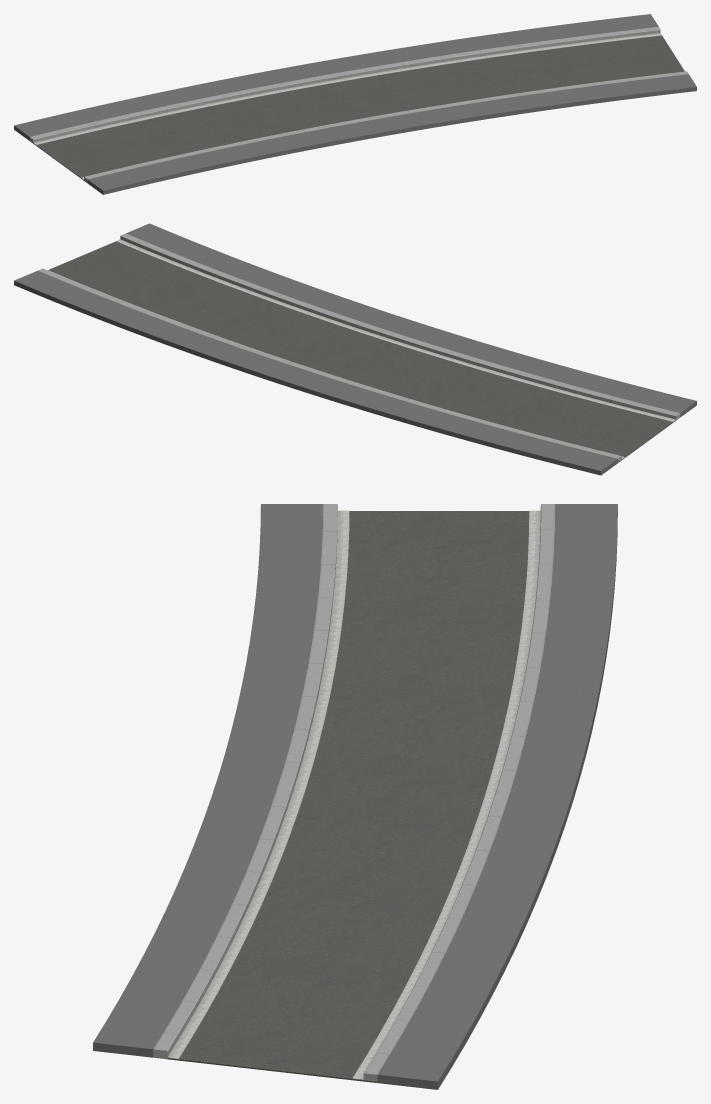
Rendered from routeCourbe1VoieAvecTrottoirs26m.obj.
3 views of the same model, one above another, from view 1: azimuth 30°, elevation 25°; view 2: azimuth 150°, elevation 25°; view 3: azimuth 270°, elevation 25° (orthographic). The views are drawn at different scales.
Visible parts, largest first — view 1: roadCourbe1VoieAvecTrottoirs26m_Plane.040; view 2: roadCourbe1VoieAvecTrottoirs26m_Plane.040; view 3: roadCourbe1VoieAvecTrottoirs26m_Plane.040.
Boxes of the visible parts, <box> form: roadCourbe1VoieAvecTrottoirs26m_Plane.040: <box>14,14,696,194</box>; roadCourbe1VoieAvecTrottoirs26m_Plane.040: <box>14,223,696,475</box>; roadCourbe1VoieAvecTrottoirs26m_Plane.040: <box>93,504,617,1089</box>.
Bounding box in the file's own units: 2660 × 18 × 1022.
